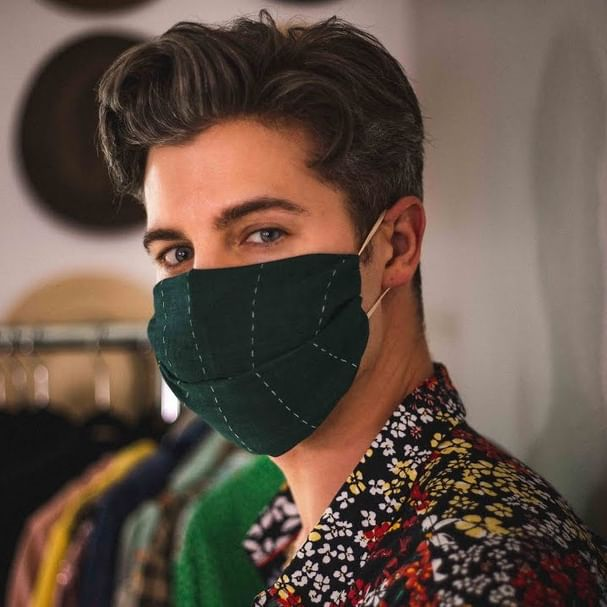homemade: (126, 262, 369, 450)
